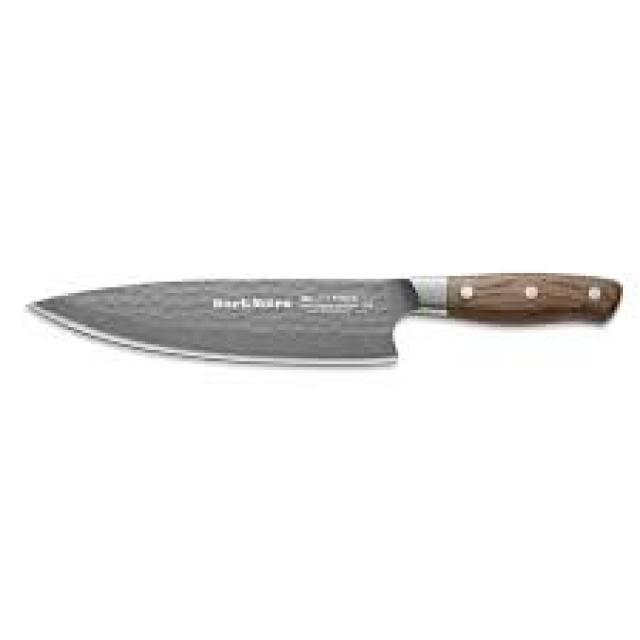Knife: (23, 270, 623, 367)
